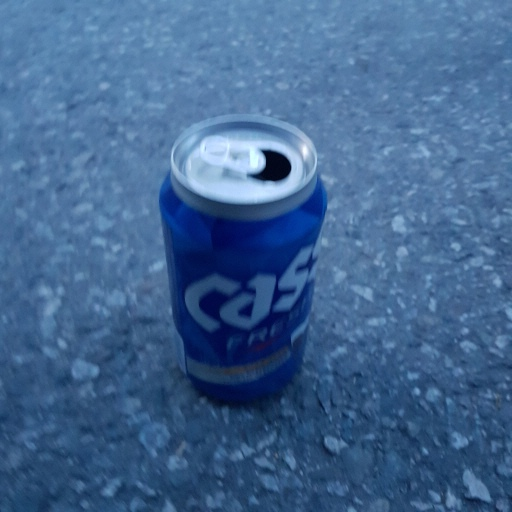Metal_0: (164, 115, 328, 403)
